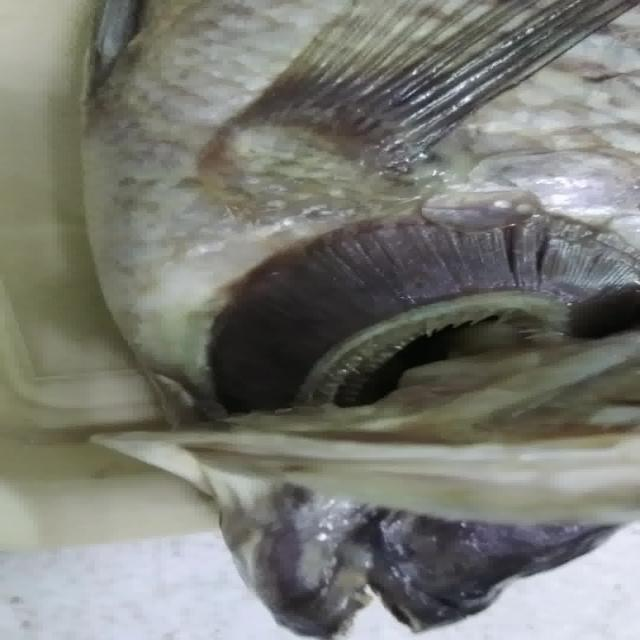Non-Fresh: (193, 182, 640, 396)
